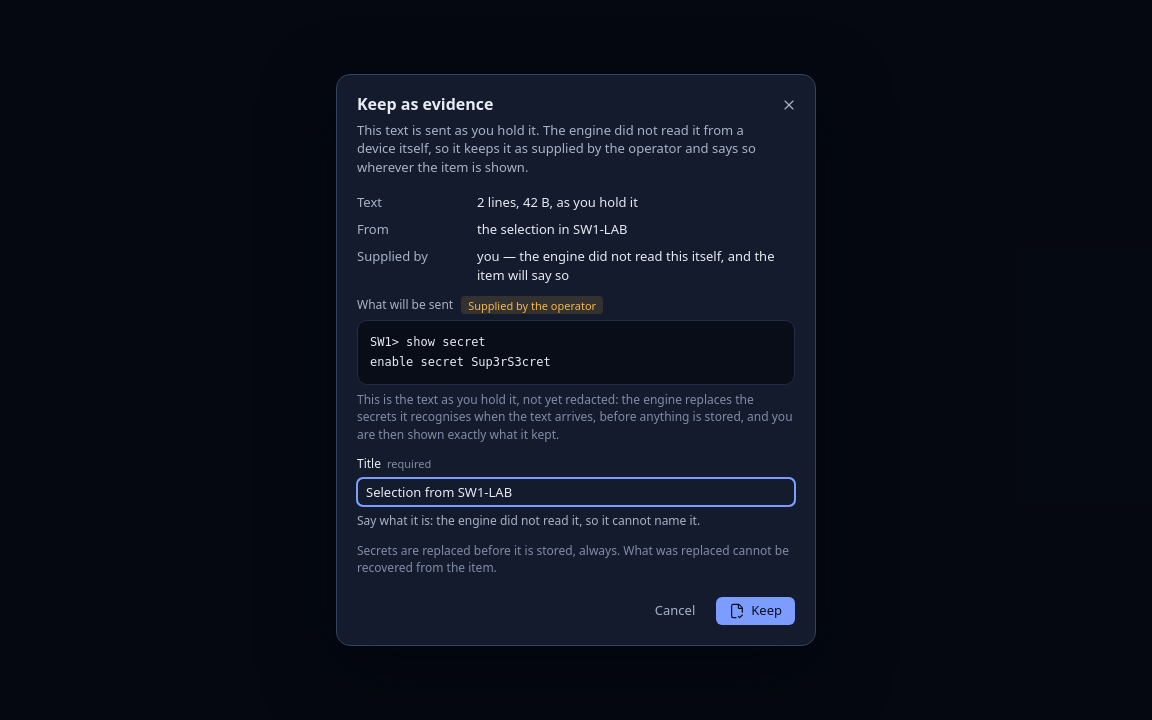
it: keeping text a person holds › leaves the dialog open with the engine’s reason when the text is refused
Click the button "Keep": (756, 611) top-left (716, 597), bottom-right (795, 625)
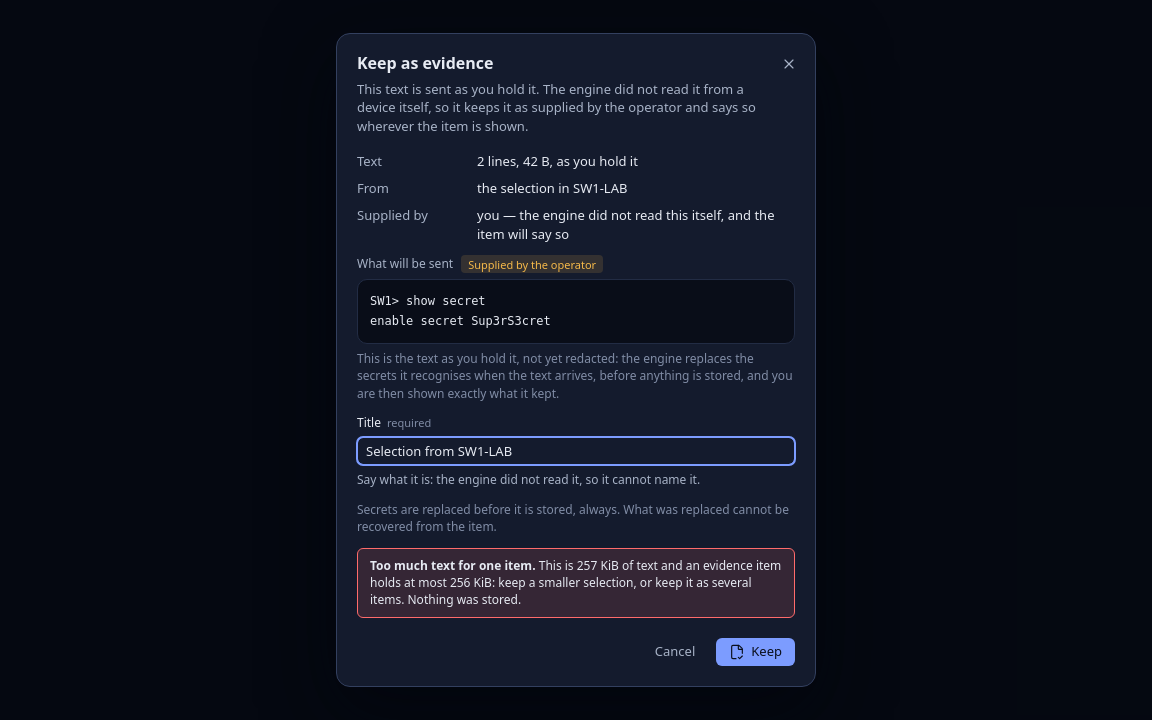
Now the message with test id "keep-refused" shows "Too much text for one item", box top-left (370, 556), bottom-right (532, 574)
Now the message with test id "keep-refused" shows "Nothing was stored.", box top-left (370, 556), bottom-right (781, 608)
